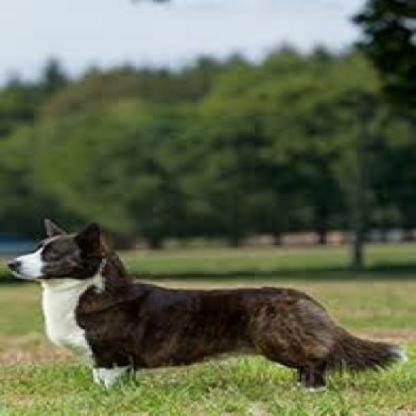dog: (6, 217, 406, 391)
